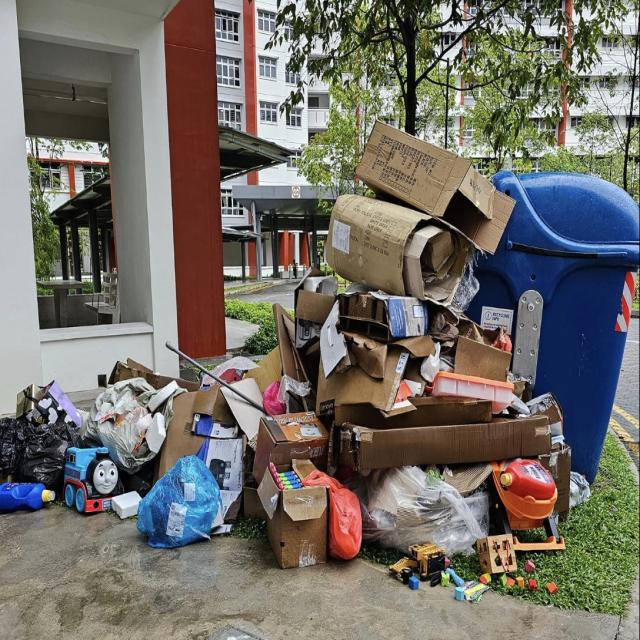bin_full: (460, 172, 640, 479)
bulk_waste: (356, 122, 514, 252), (325, 195, 470, 305), (317, 286, 427, 416), (334, 415, 551, 471), (156, 383, 246, 507), (264, 455, 324, 567), (272, 310, 314, 408), (268, 412, 329, 472), (452, 333, 513, 384), (108, 358, 195, 393), (294, 286, 336, 328), (420, 340, 440, 382)
normal_waste: (362, 466, 487, 554), (137, 455, 221, 547), (15, 413, 81, 493), (0, 416, 21, 480)
